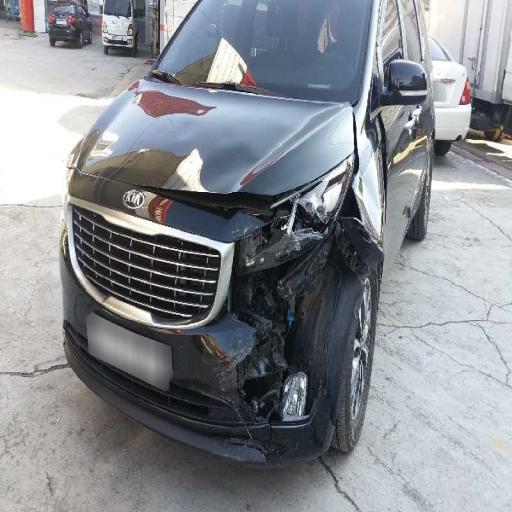broken: (245, 144, 374, 422)
scratch: (153, 121, 222, 239)
